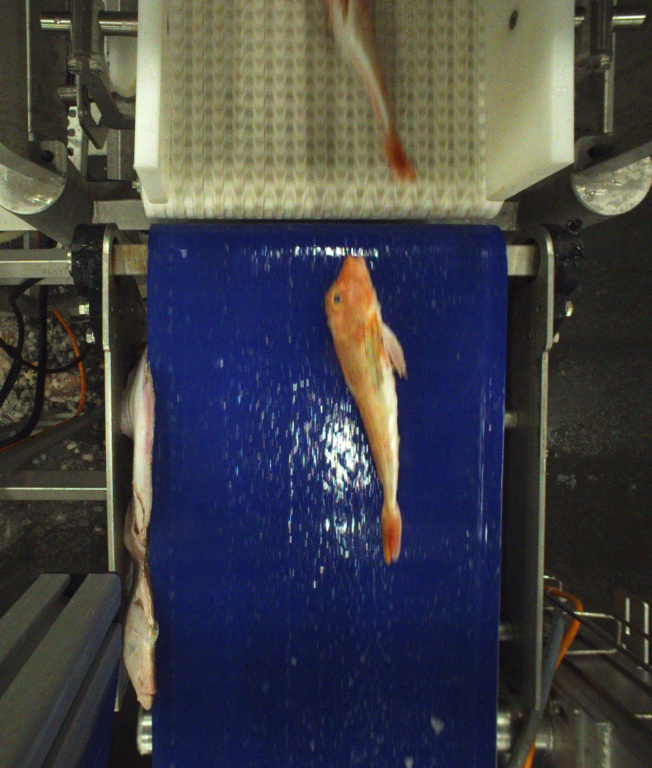GUU: (325, 254, 412, 563)
